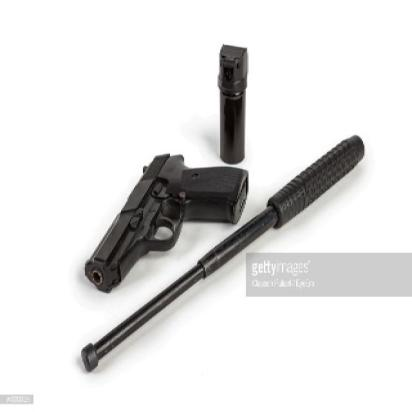Gun: (78, 150, 254, 292)
